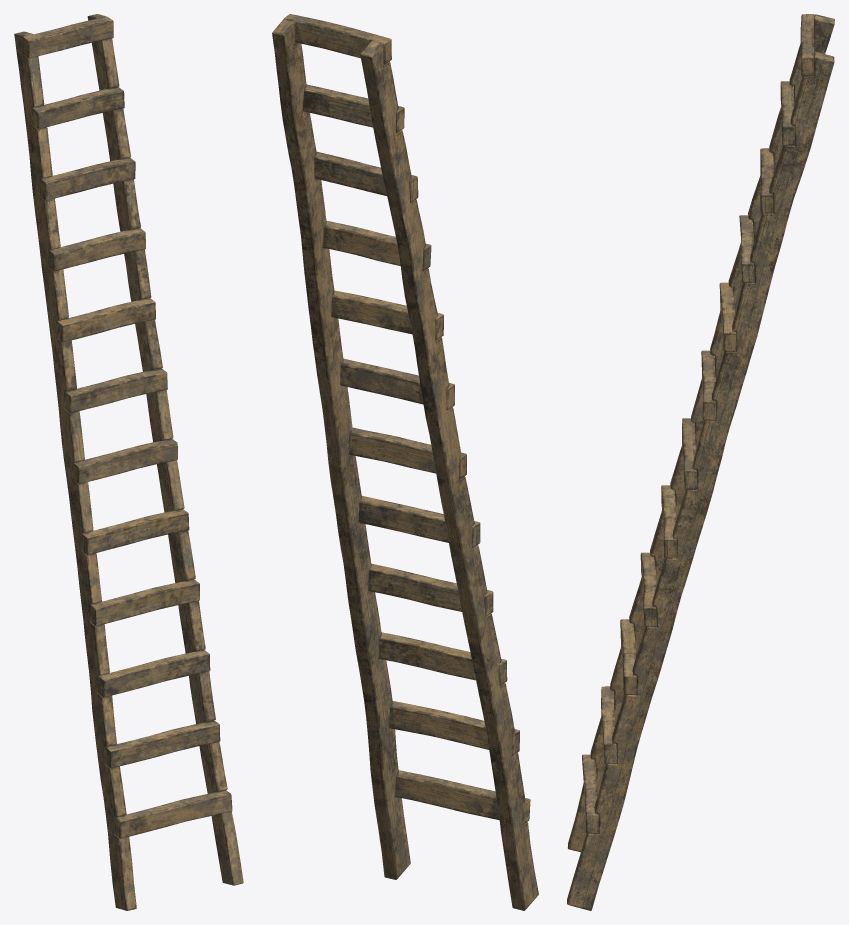
File: ladder.glb
The picture shows the model from 3 angles, left to right: view 1: azimuth 30°, elevation 25°; view 2: azimuth 150°, elevation 25°; view 3: azimuth 270°, elevation 25°; orthographic projection. The views are drawn at different scales.
Visible parts, largest first — view 1: ladder; view 2: ladder; view 3: ladder.
Part boxes in pixels (x1,y1,x2,y2): ladder: (14, 14, 243, 910); ladder: (272, 14, 538, 910); ladder: (567, 14, 834, 910).
Bounding box in the file's own units: 0.4498 × 2.9 × 0.8341.
1 material, 1 textured.
